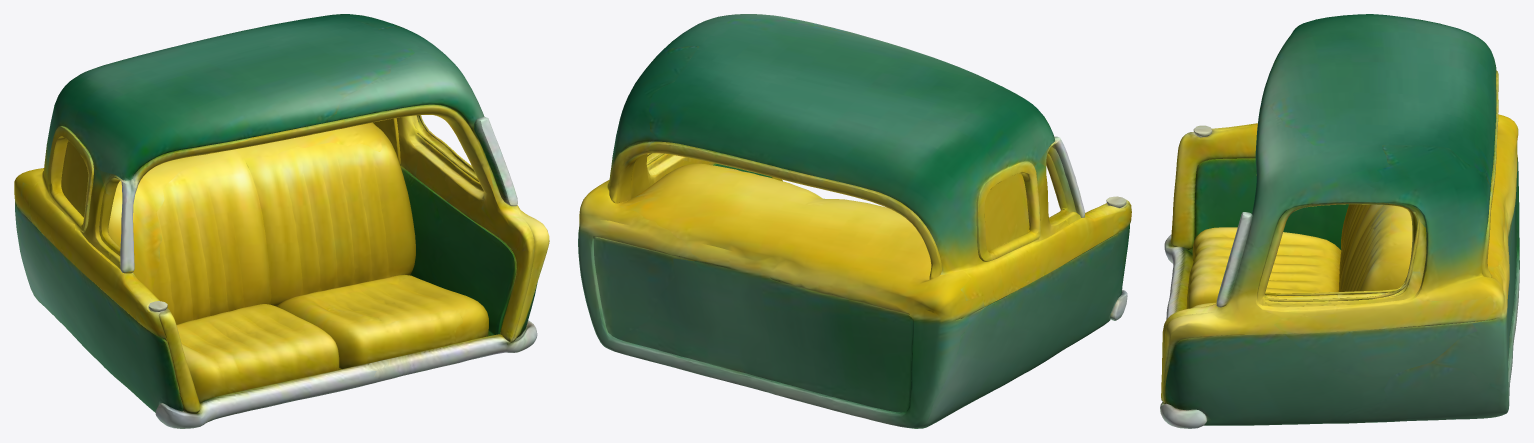
File: base_basic_pbr.glb
3 views of the same model, side by side, from view 1: azimuth 30°, elevation 25°; view 2: azimuth 150°, elevation 25°; view 3: azimuth 270°, elevation 25° (orthographic). The views are drawn at different scales.
Parts seen in each view (by area): view 1: model; view 2: model; view 3: model.
Boxes of the visible parts, x1,y1,x2,y2 form: model: [14, 14, 549, 428]; model: [578, 14, 1131, 428]; model: [1160, 14, 1519, 428].
Size of the model in its own units: 1.9 by 1.2 by 1.49.
Materials: 1 (1 with a texture image).
